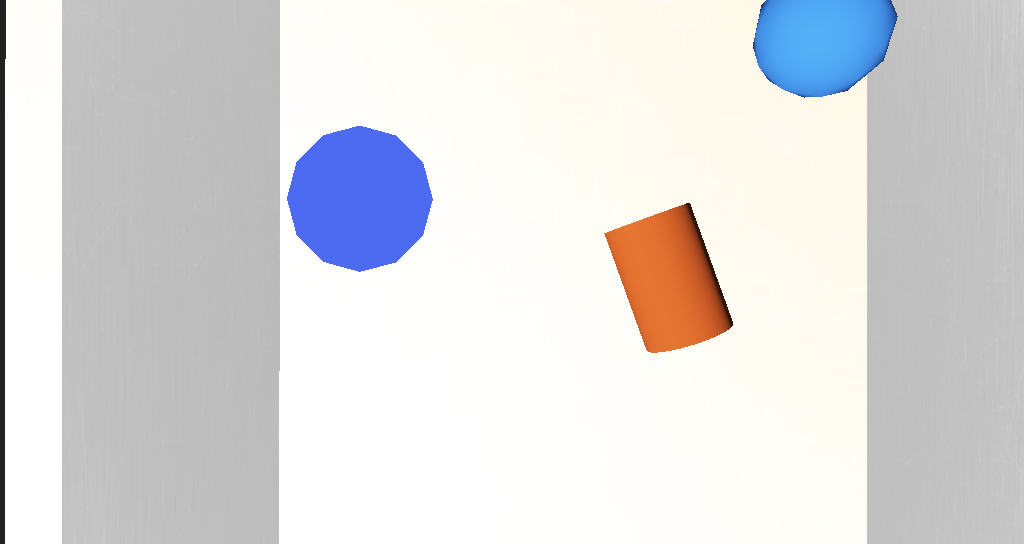cone: (519, 246, 586, 298)
cylinder: (371, 220, 438, 267)
sphere: (596, 165, 657, 208)
